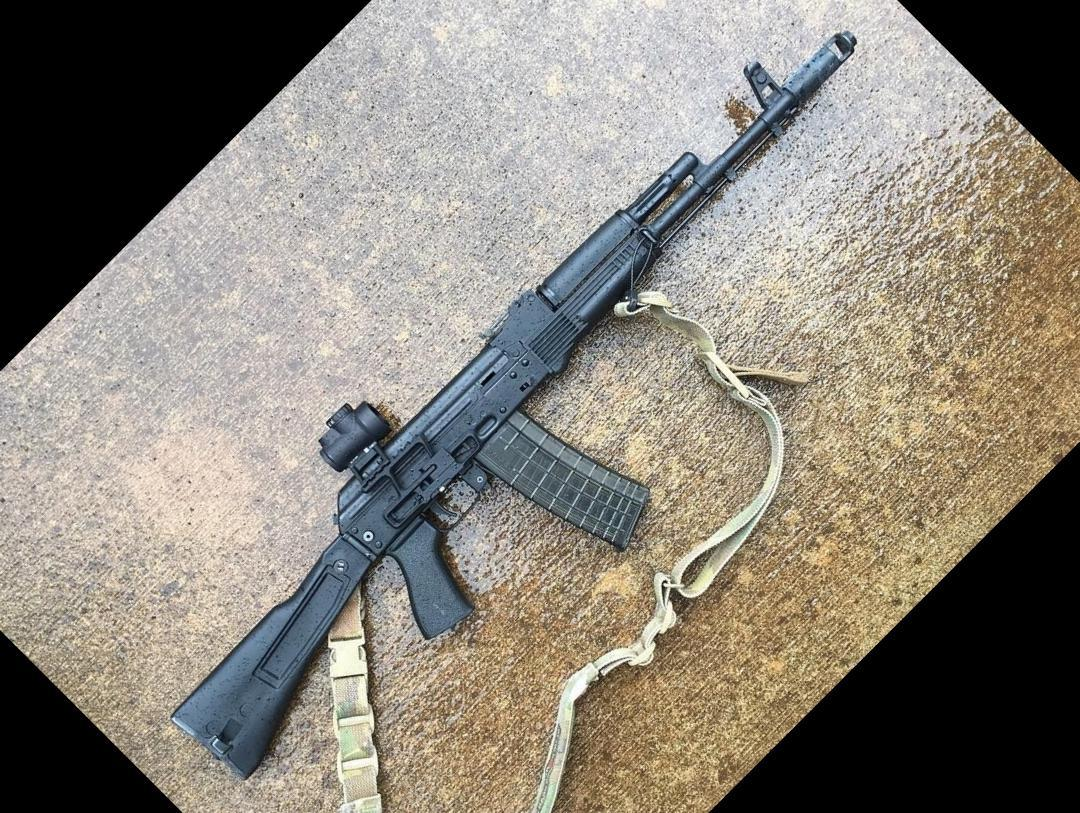larga: (172, 29, 860, 777)
